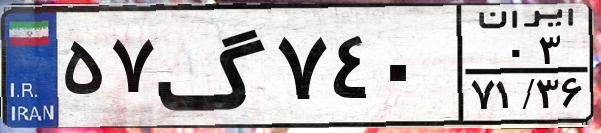0: (385, 28, 445, 110), (508, 27, 537, 80)
1: (495, 70, 520, 125)
3: (537, 27, 568, 80), (535, 70, 560, 125)
4: (330, 28, 385, 110)
5: (57, 26, 110, 100)
6: (560, 70, 590, 125)
7: (270, 28, 330, 110), (110, 28, 156, 98), (470, 70, 495, 125)
گ: (156, 12, 270, 120)
